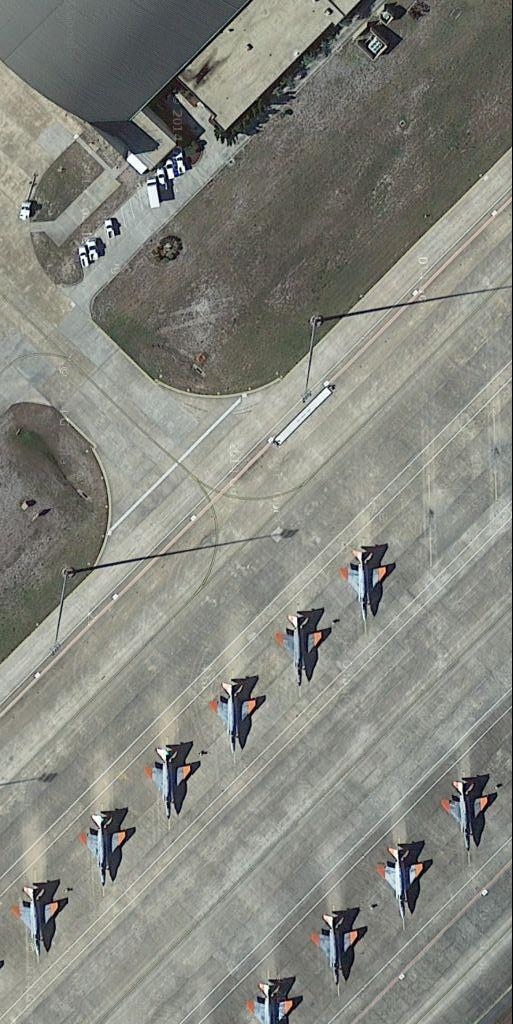plane: (335, 536, 400, 634), (305, 902, 366, 995), (12, 871, 70, 966), (206, 673, 267, 760), (374, 836, 431, 927), (77, 803, 133, 895), (274, 605, 330, 694), (142, 736, 196, 826), (438, 772, 492, 857), (242, 970, 305, 1020)
